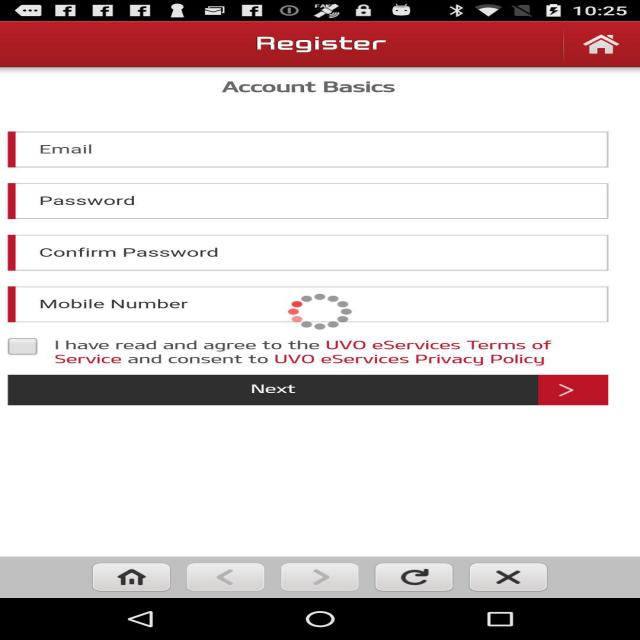button: (12, 373, 604, 406), (94, 565, 171, 588), (471, 569, 546, 590), (272, 572, 364, 588), (182, 569, 262, 587), (376, 576, 452, 588)
icon: (570, 28, 633, 59), (542, 379, 590, 398)
image: (0, 20, 640, 68), (7, 230, 623, 274), (7, 132, 627, 174), (5, 178, 625, 220), (9, 285, 614, 328), (96, 563, 170, 592), (186, 562, 258, 591), (282, 565, 356, 592), (380, 566, 444, 592), (473, 566, 542, 590)
text: (52, 334, 574, 367), (34, 239, 268, 267), (212, 74, 412, 106), (245, 33, 402, 62), (32, 295, 202, 314), (39, 188, 180, 207), (32, 142, 128, 158), (242, 383, 307, 400)
